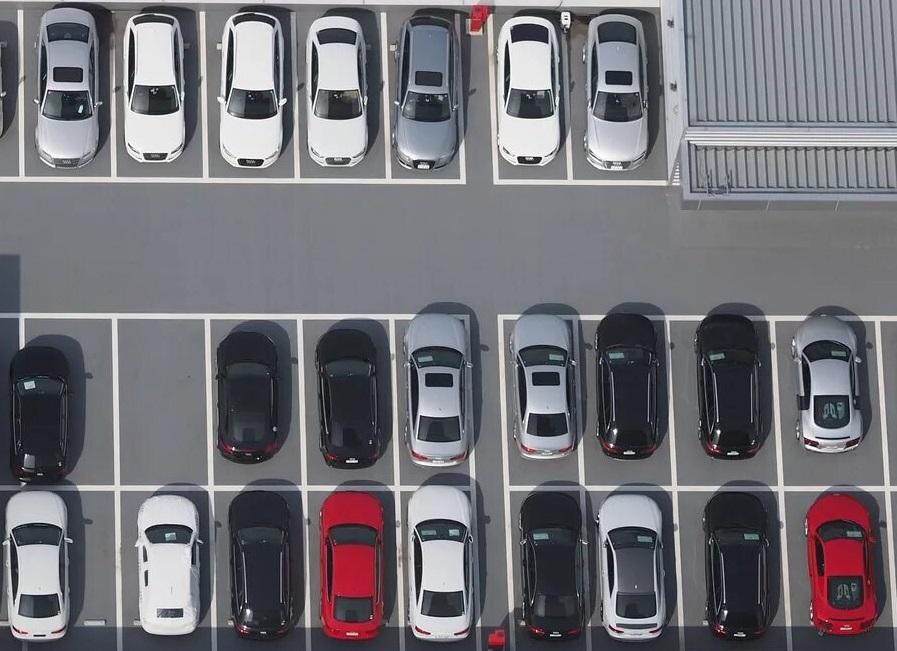occupied: (772, 318, 887, 490), (668, 318, 782, 488), (674, 488, 790, 648), (782, 488, 896, 646), (564, 18, 670, 185), (300, 317, 399, 488), (208, 316, 305, 488), (576, 318, 674, 488), (22, 316, 118, 488), (582, 489, 683, 648), (211, 488, 309, 650), (294, 14, 389, 181), (204, 14, 299, 179), (21, 12, 114, 180), (23, 488, 120, 649), (118, 488, 214, 650), (113, 13, 206, 179), (306, 489, 402, 649), (392, 318, 474, 489), (500, 318, 582, 489), (490, 16, 570, 183), (398, 488, 480, 650), (384, 16, 463, 182), (508, 488, 589, 648)
vacant: (114, 316, 210, 488)
